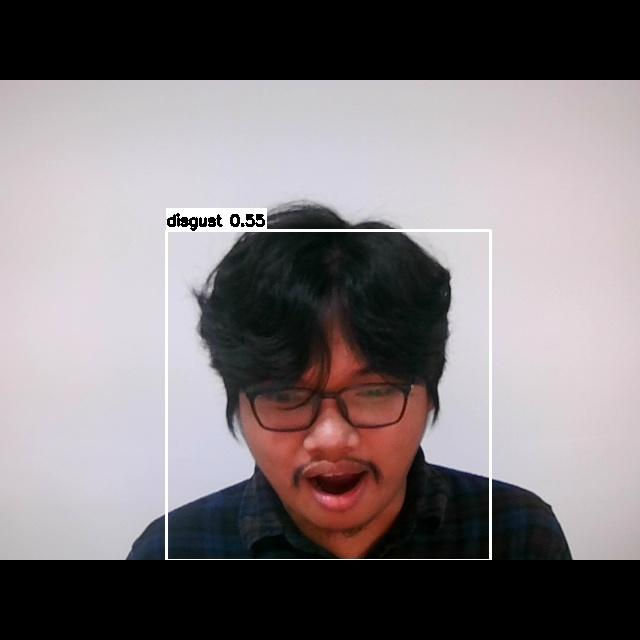Surprised: (233, 348, 437, 524)
